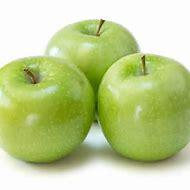apple: (89, 46, 190, 160), (0, 56, 97, 168), (48, 21, 136, 78)
